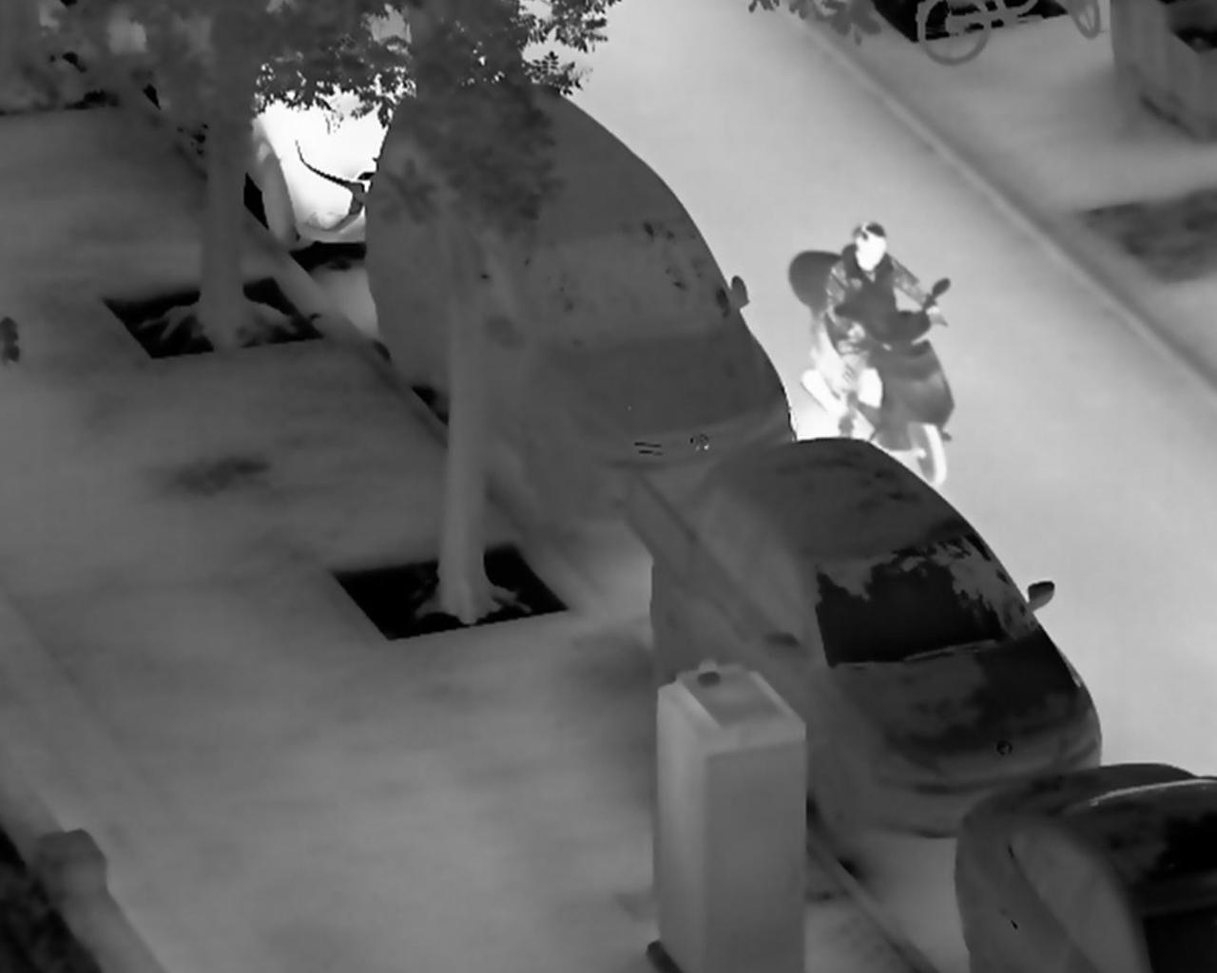person: (824, 219, 947, 441)
